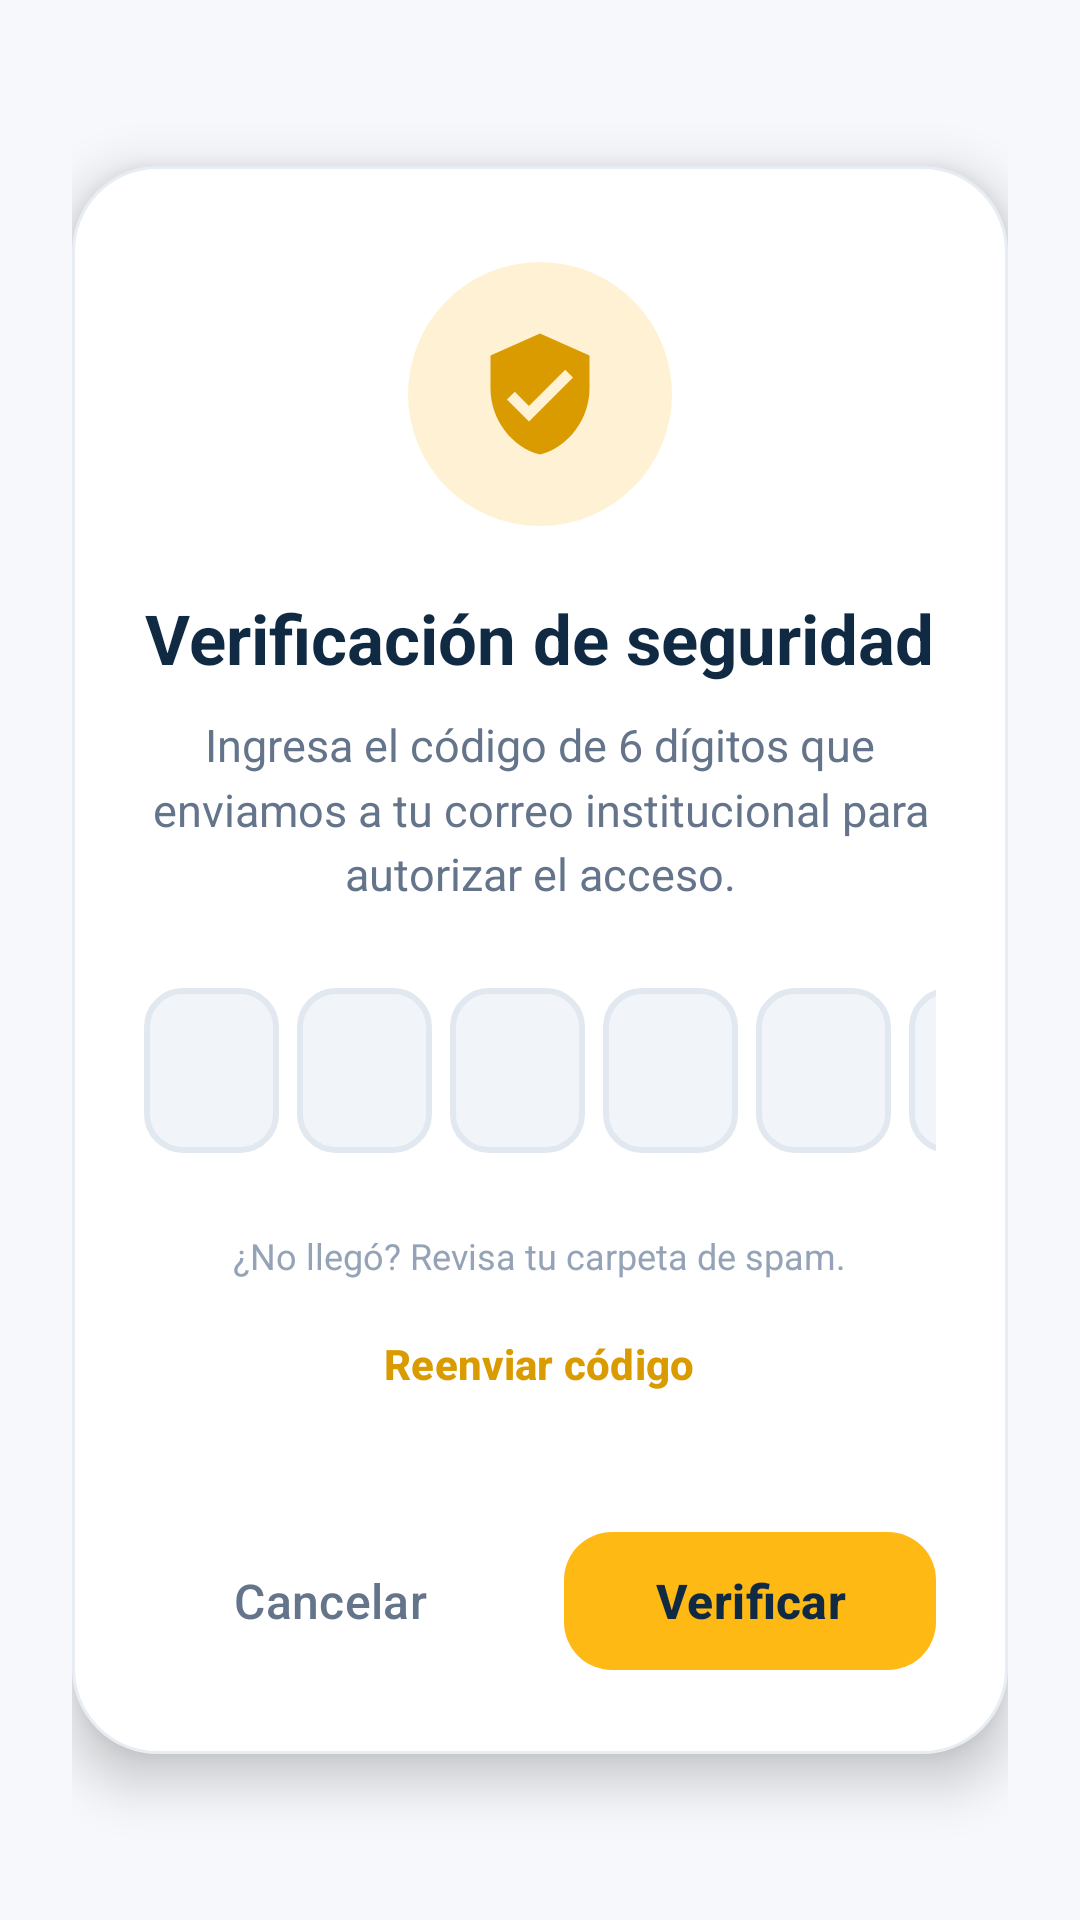

Locate icon controls on the screen. Image size 1080×1920, boxes as box=[x1, y1, x2, y2].
Icono de verificación segura: box=[490, 333, 590, 455]
